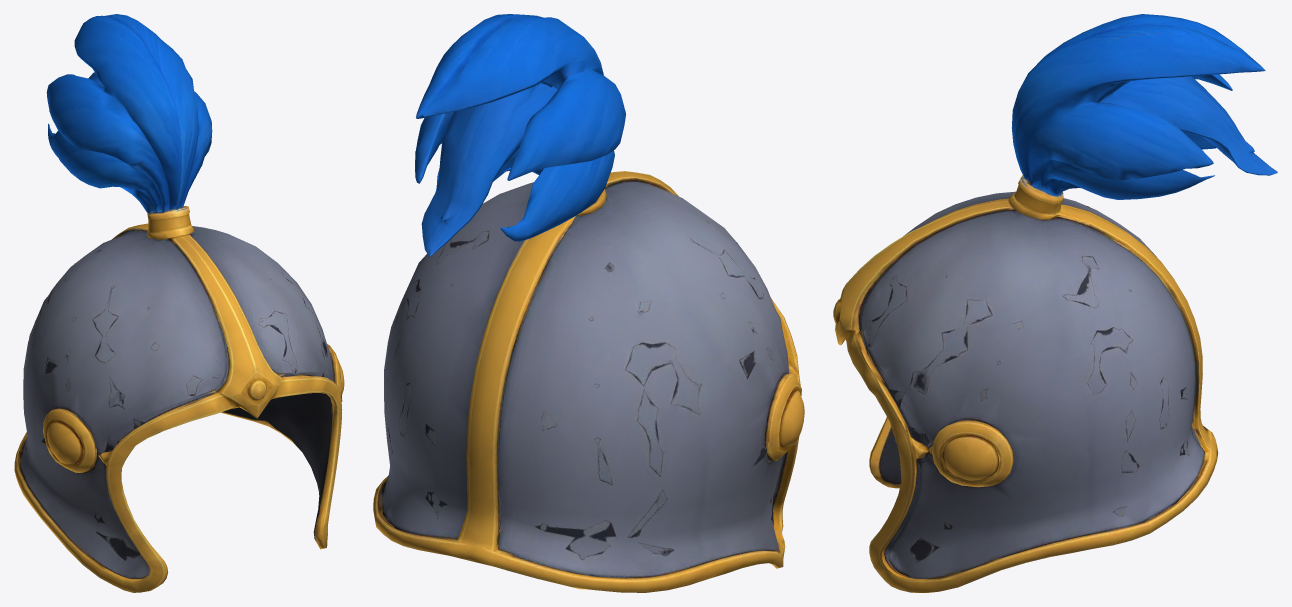
Rendered from hat_garde.glb.
3 views of the same model, side by side, from view 1: azimuth 30°, elevation 25°; view 2: azimuth 150°, elevation 25°; view 3: azimuth 270°, elevation 25° (orthographic). The views are drawn at different scales.
Bounding box in the file's own units: 0.6167 × 0.9517 × 0.7329.
1 material, 1 textured.
